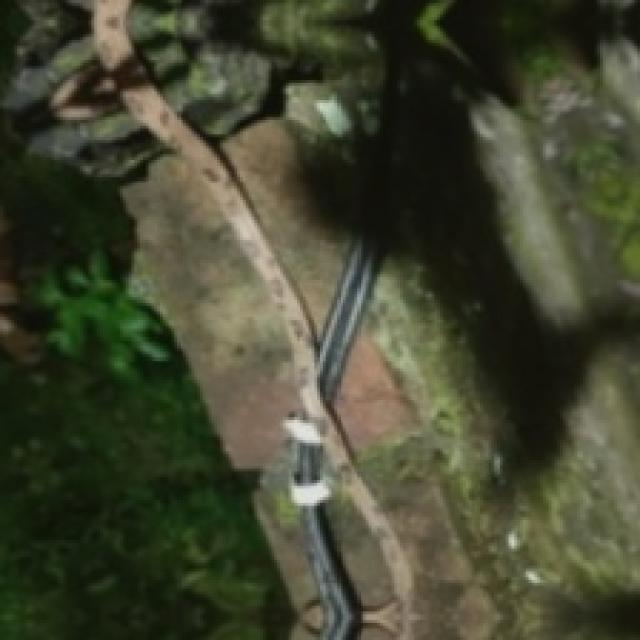dog-toothed cat snake: (95, 0, 415, 639)
